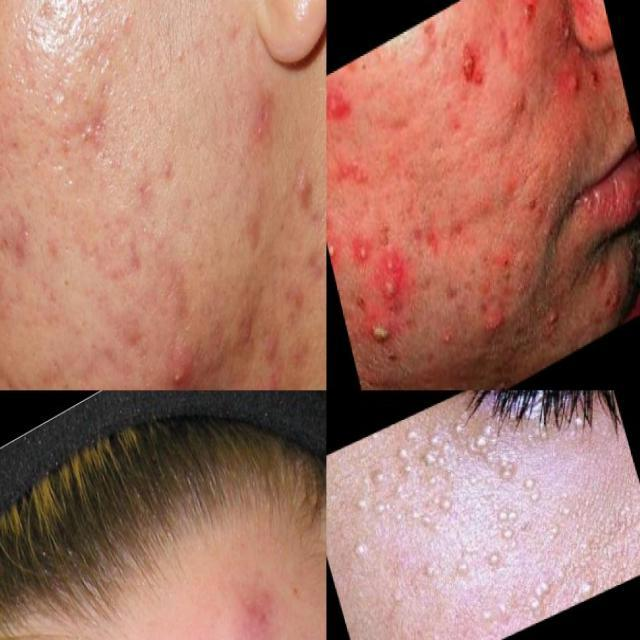Pimples: (388, 399, 474, 486), (60, 98, 119, 186), (228, 564, 287, 640), (413, 534, 481, 598), (448, 29, 498, 112), (406, 463, 464, 533), (0, 208, 47, 294), (470, 414, 520, 492), (518, 558, 580, 620), (348, 461, 402, 531), (536, 481, 590, 548), (327, 77, 362, 172), (375, 239, 412, 325), (467, 578, 518, 635), (550, 50, 590, 121), (480, 296, 520, 360), (362, 303, 399, 367), (0, 324, 35, 390), (37, 346, 88, 390), (150, 348, 202, 390), (232, 360, 296, 390), (539, 292, 572, 349), (493, 498, 529, 546), (32, 0, 69, 44), (519, 467, 549, 512), (349, 228, 374, 277), (429, 362, 472, 390), (348, 532, 378, 566), (486, 543, 506, 572)
